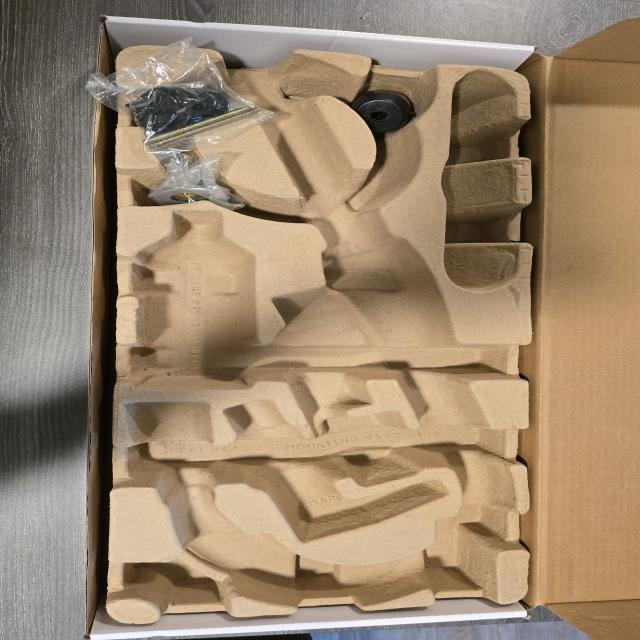1m: (125, 56, 510, 602)
2m: (223, 401, 450, 539)
3m: (133, 211, 256, 389)
4m: (436, 70, 517, 290)
5: (350, 90, 415, 135)
6: (151, 152, 244, 207)
7: (89, 36, 281, 157)
